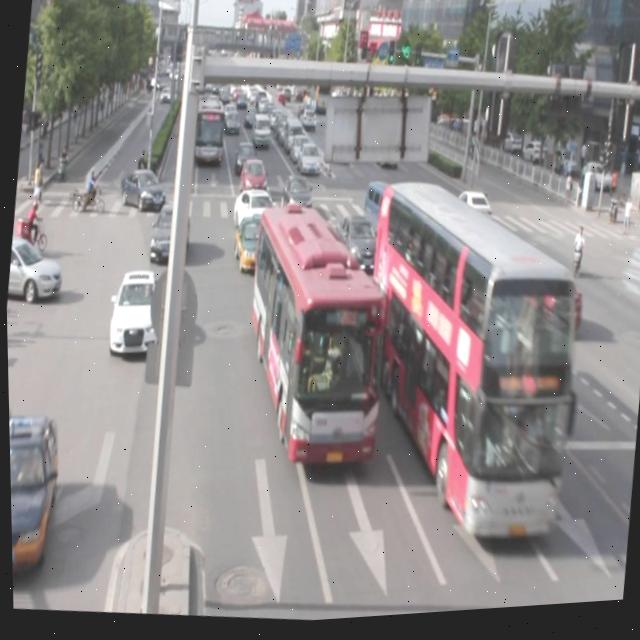car: (7, 409, 63, 577), (103, 266, 164, 359), (527, 270, 588, 346), (330, 213, 383, 279), (146, 201, 193, 267), (229, 214, 272, 278), (230, 188, 276, 239)
van: (338, 177, 591, 557), (234, 204, 396, 476)
